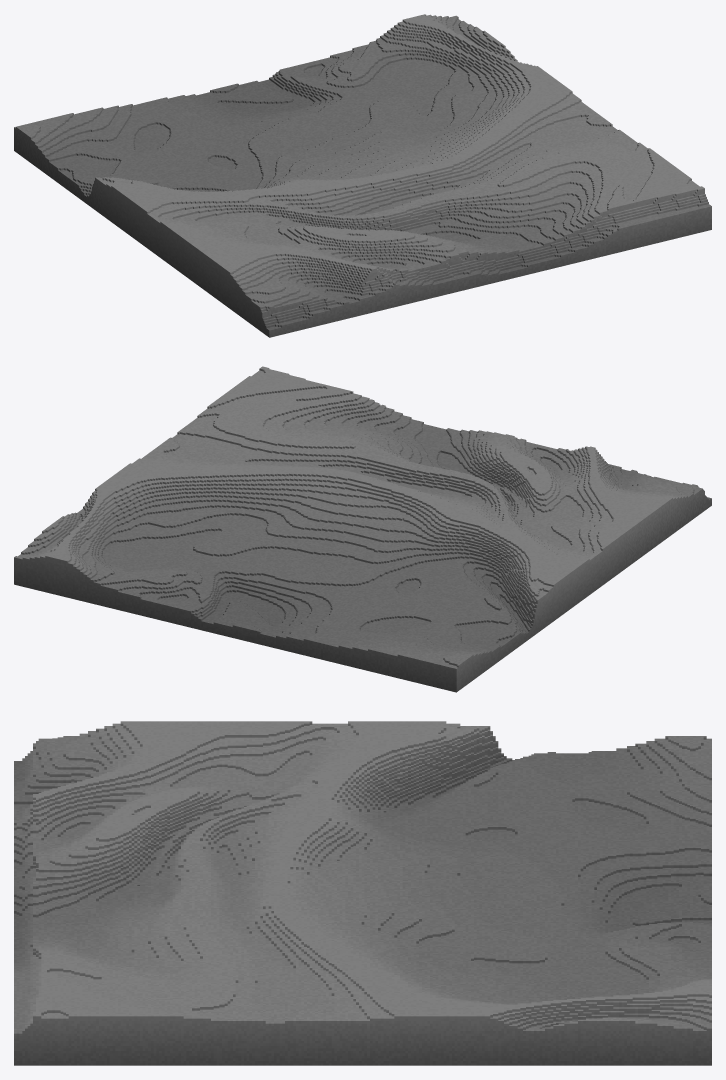
File: LunaGrande-11.obj
3 views of the same model, one above another, from view 1: azimuth 30°, elevation 25°; view 2: azimuth 150°, elevation 25°; view 3: azimuth 270°, elevation 25° (orthographic). The views are drawn at different scales.
Size of the model in its own units: 25.5 by 2 by 25.5.
1 material, 1 textured.
